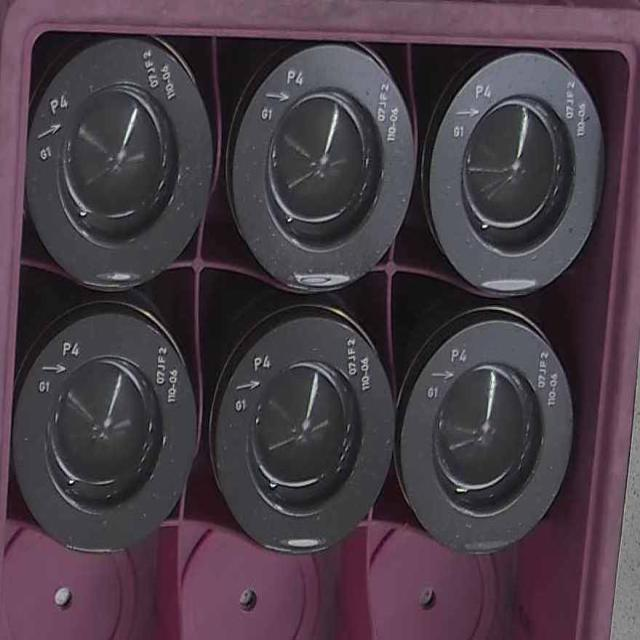P4: (230, 49, 413, 293), (429, 60, 613, 298), (30, 49, 210, 288), (210, 312, 390, 551), (15, 313, 192, 544), (401, 315, 577, 547)
